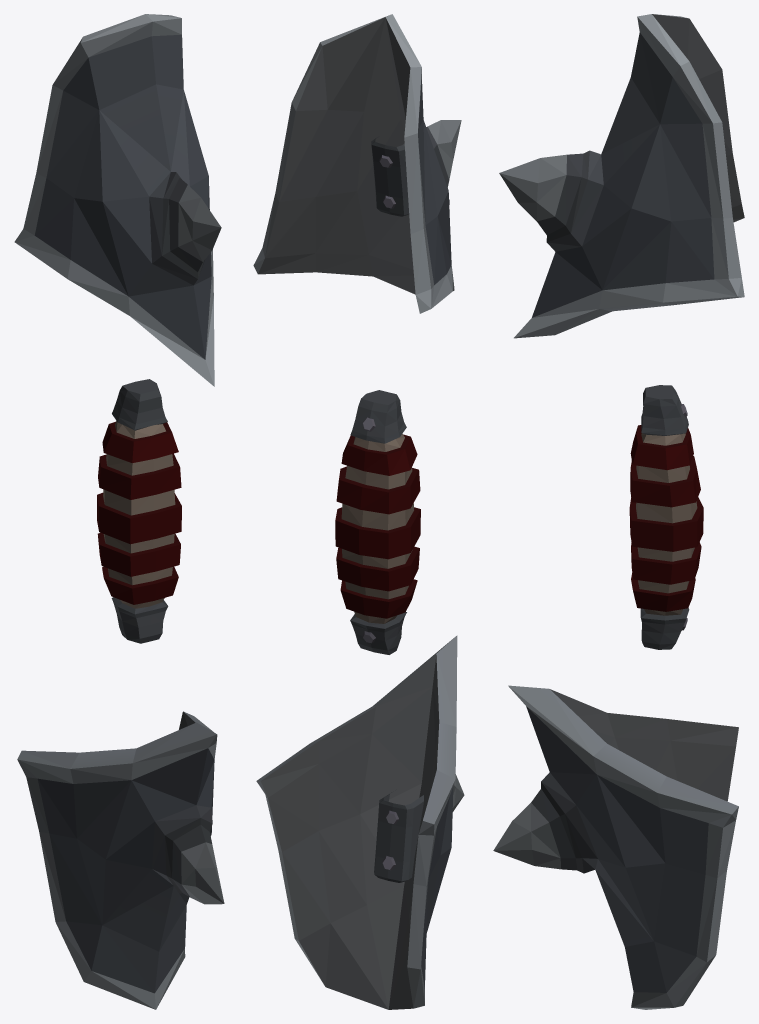
The model's file is smallBowMetalHandle.glb.
The picture shows the model from 3 angles, left to right: view 1: azimuth 30°, elevation 25°; view 2: azimuth 150°, elevation 25°; view 3: azimuth 270°, elevation 25°; orthographic projection.
Visible parts, largest first — view 1: smallBowMetalHandle; view 2: smallBowMetalHandle; view 3: smallBowMetalHandle.
Boxes of the visible parts, x1=… form: smallBowMetalHandle: x1=14, y1=14, x2=224, y2=1009; smallBowMetalHandle: x1=253, y1=14, x2=464, y2=1009; smallBowMetalHandle: x1=493, y1=14, x2=744, y2=1009.
Size of the model in its own units: 0.1211 by 0.6473 by 0.1482.
